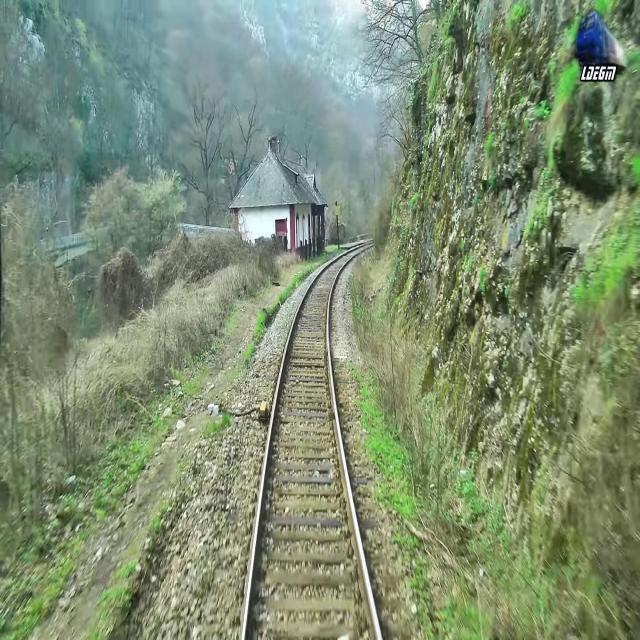rail-track: (245, 244, 378, 639)
